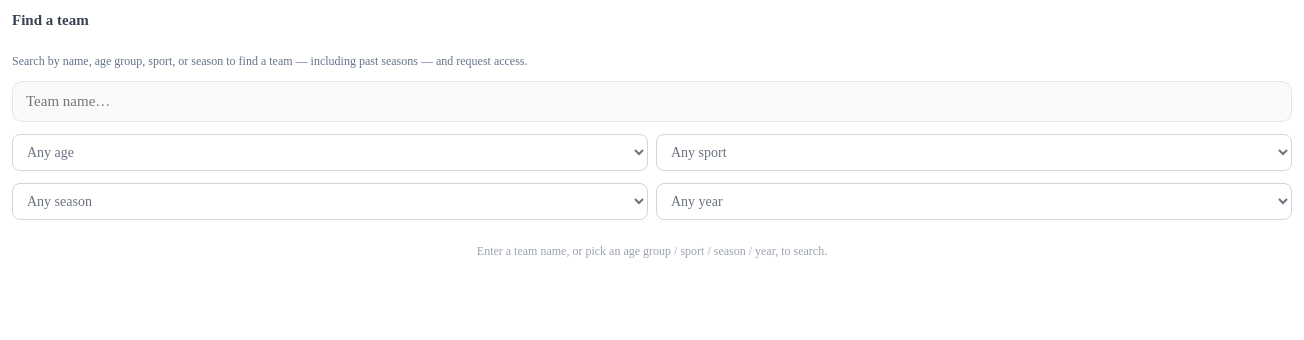
Test case: TeamSearch — error and retry › a failed fetch shows an error message with a working Try again retry
In the search field labelled "Team name…": (652, 101) [12,81,1292,122], type "Fire"
Wait 400 ms
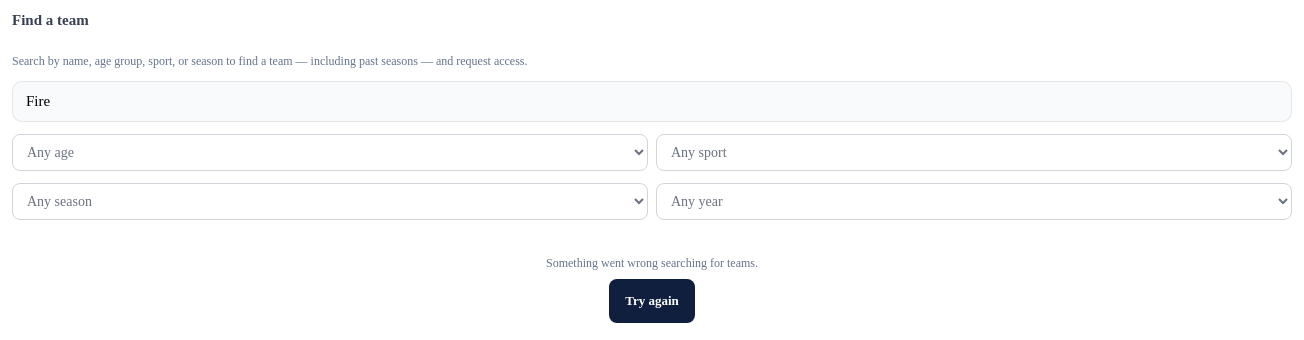
Now the text "Something went wrong searching for teams." is shown, box [546,256,758,271]
Click the button "Try again": (652, 301) [609,279,695,323]
Wait 400 ms
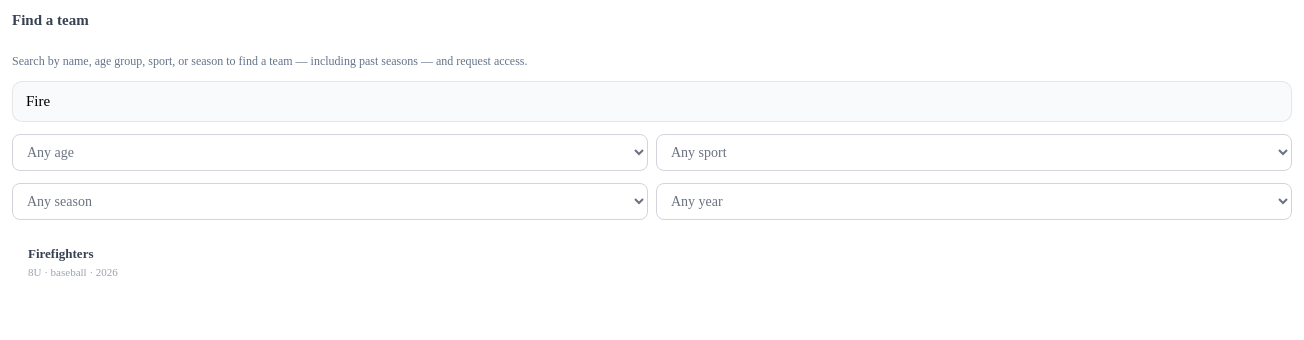
Now the text "Firefighters" is shown, box [28,246,94,261]
